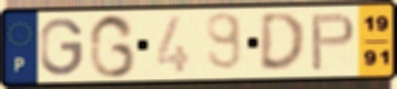4: (154, 14, 192, 76)
9: (205, 11, 244, 78)
D: (256, 10, 309, 75)
G: (87, 12, 137, 80), (38, 16, 86, 78)
P: (308, 11, 357, 73)
